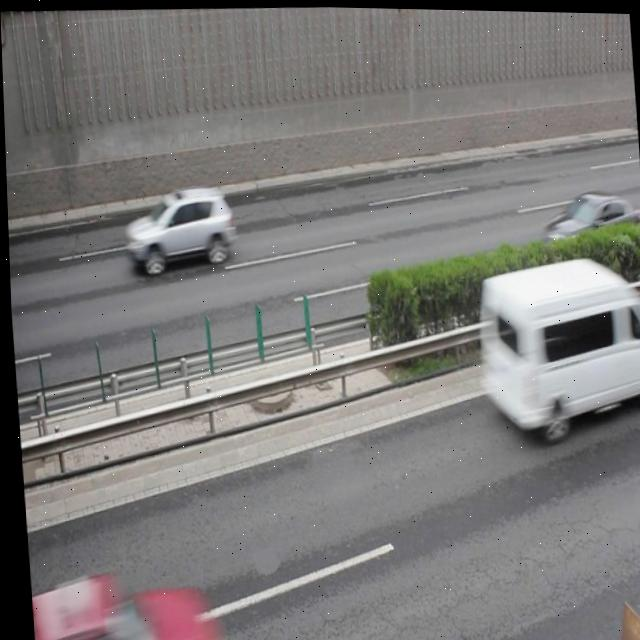car: (26, 567, 214, 640), (121, 187, 234, 273), (537, 187, 640, 250)
truck: (469, 250, 640, 435)
